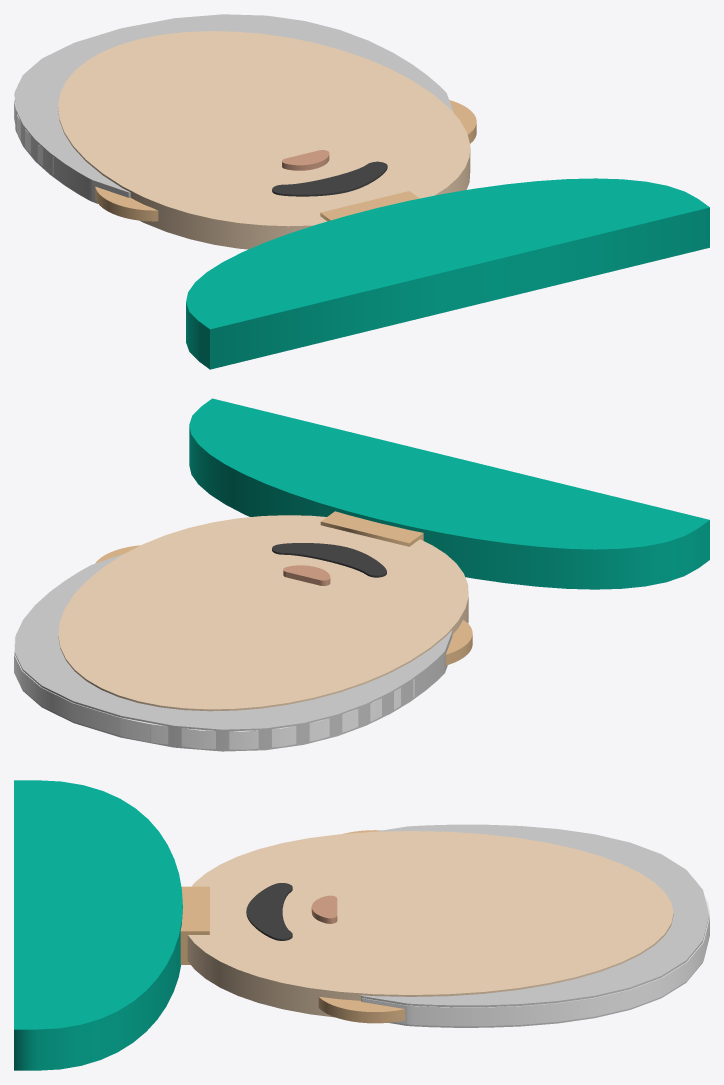
File: emoji_u1f468_1f3fb_200d_1f9b3.glb
3 views of the same model, one above another, from view 1: azimuth 30°, elevation 25°; view 2: azimuth 150°, elevation 25°; view 3: azimuth 270°, elevation 25° (orthographic). The views are drawn at different scales.
Parts seen in each view (by area): view 1: emoji_u1f468_1f3fb_200d_1f9b3; view 2: emoji_u1f468_1f3fb_200d_1f9b3; view 3: emoji_u1f468_1f3fb_200d_1f9b3.
Part boxes in pixels (box(x1,y1,x2,y2)): emoji_u1f468_1f3fb_200d_1f9b3: box(14, 14, 709, 369); emoji_u1f468_1f3fb_200d_1f9b3: box(14, 398, 709, 751); emoji_u1f468_1f3fb_200d_1f9b3: box(14, 780, 709, 1070).
Size of the model in its own units: 0.0286 by 0.0022 by 0.0337.
